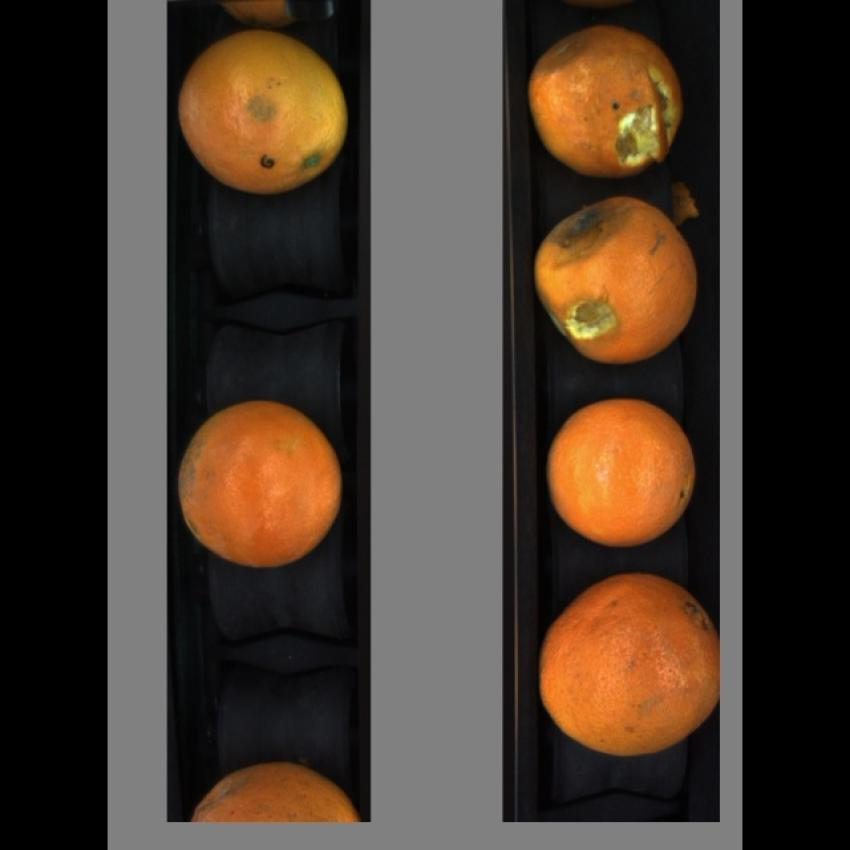Buen estado: (541, 387, 706, 554)
Mal estado: (535, 569, 724, 758), (520, 189, 721, 366), (175, 29, 350, 198), (180, 402, 348, 569), (528, 24, 693, 173), (188, 752, 367, 822)
